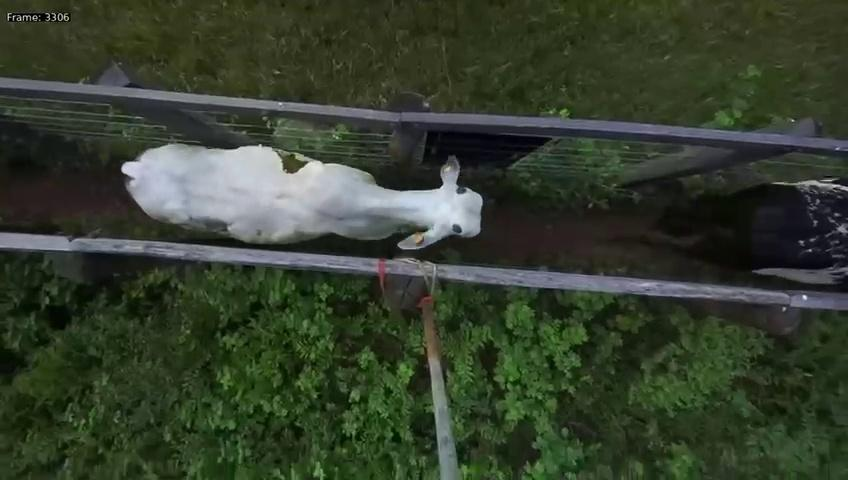cattle: (115, 129, 485, 255)
